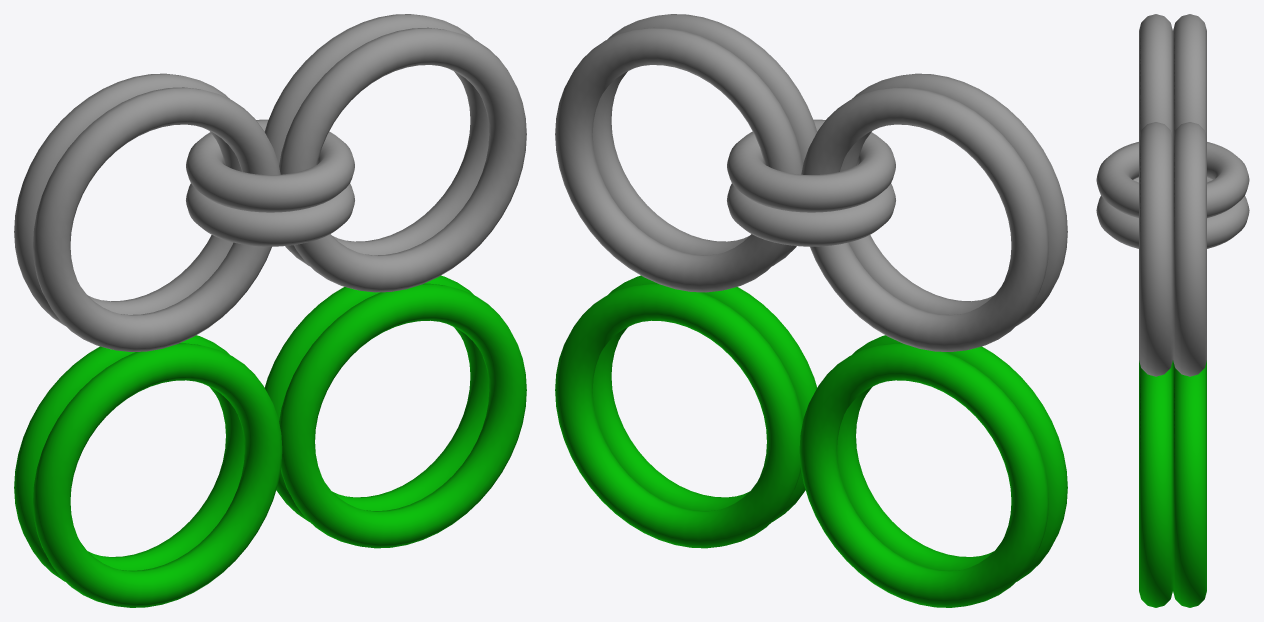
Rendered from japanese_8_in_2_step_04.glb.
3 renders of one model, left to right at view 1: azimuth 30°, elevation 25°; view 2: azimuth 150°, elevation 25°; view 3: azimuth 270°, elevation 25°, orthographic. The views are drawn at different scales.
Parts seen in each view (by area): view 1: Torus AR 6.003, Torus AR 6.001, Torus AR 6.032, Torus AR 6.024, Torus AR 6.004, Torus AR 6.019, Torus AR 6.027, Torus AR 6.002, Torus AR 3.042, Torus AR 3.041; view 2: Torus AR 6.004, Torus AR 6.002, Torus AR 6.027, Torus AR 6.019, Torus AR 6.003, Torus AR 6.024, Torus AR 6.032, Torus AR 6.001, Torus AR 3.042, Torus AR 3.041; view 3: Torus AR 6.027, Torus AR 6.032, Torus AR 6.001, Torus AR 6.002, Torus AR 3.042, Torus AR 6.019, Torus AR 6.024, Torus AR 3.041.
Part boxes in pixels (box(x1,y1,x2,y2)): Torus AR 6.003: box(33, 343, 282, 607); Torus AR 6.001: box(279, 283, 526, 548); Torus AR 6.032: box(279, 27, 526, 292); Torus AR 6.024: box(33, 87, 280, 351); Torus AR 6.004: box(14, 335, 244, 581); Torus AR 6.019: box(14, 73, 241, 325); Torus AR 6.027: box(264, 14, 489, 266); Torus AR 6.002: box(264, 275, 489, 521); Torus AR 3.042: box(186, 119, 354, 212); Torus AR 3.041: box(186, 183, 354, 246); Torus AR 6.004: box(799, 343, 1048, 607); Torus AR 6.002: box(555, 283, 802, 548); Torus AR 6.027: box(555, 27, 802, 292); Torus AR 6.019: box(801, 87, 1048, 351); Torus AR 6.003: box(837, 335, 1067, 581); Torus AR 6.024: box(840, 73, 1067, 325); Torus AR 6.032: box(592, 14, 817, 266); Torus AR 6.001: box(592, 275, 817, 521); Torus AR 3.042: box(727, 119, 895, 212); Torus AR 3.041: box(727, 183, 895, 246); Torus AR 6.027: box(1173, 122, 1206, 376); Torus AR 6.032: box(1139, 122, 1172, 376); Torus AR 6.001: box(1139, 365, 1172, 607); Torus AR 6.002: box(1173, 365, 1206, 607); Torus AR 3.042: box(1096, 142, 1249, 217); Torus AR 6.019: box(1173, 14, 1206, 137); Torus AR 6.024: box(1139, 14, 1172, 137); Torus AR 3.041: box(1096, 177, 1249, 248).
Bounding box in the file's own units: 6 × 6 × 1.8.
